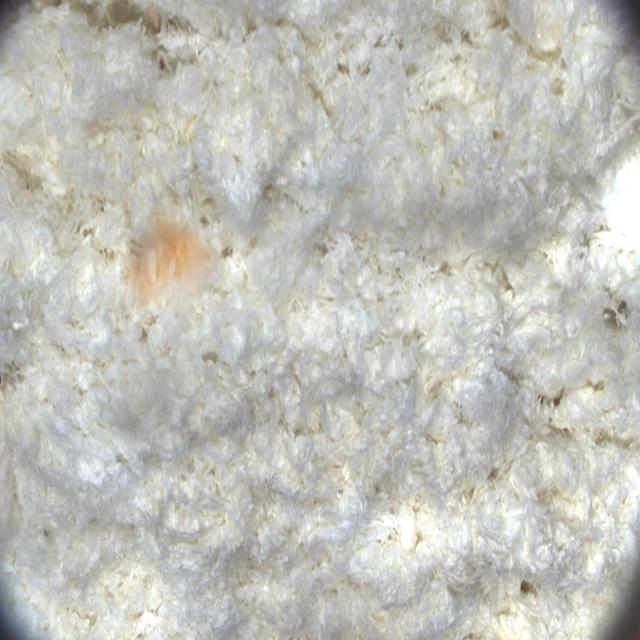dust: (120, 196, 227, 312)
